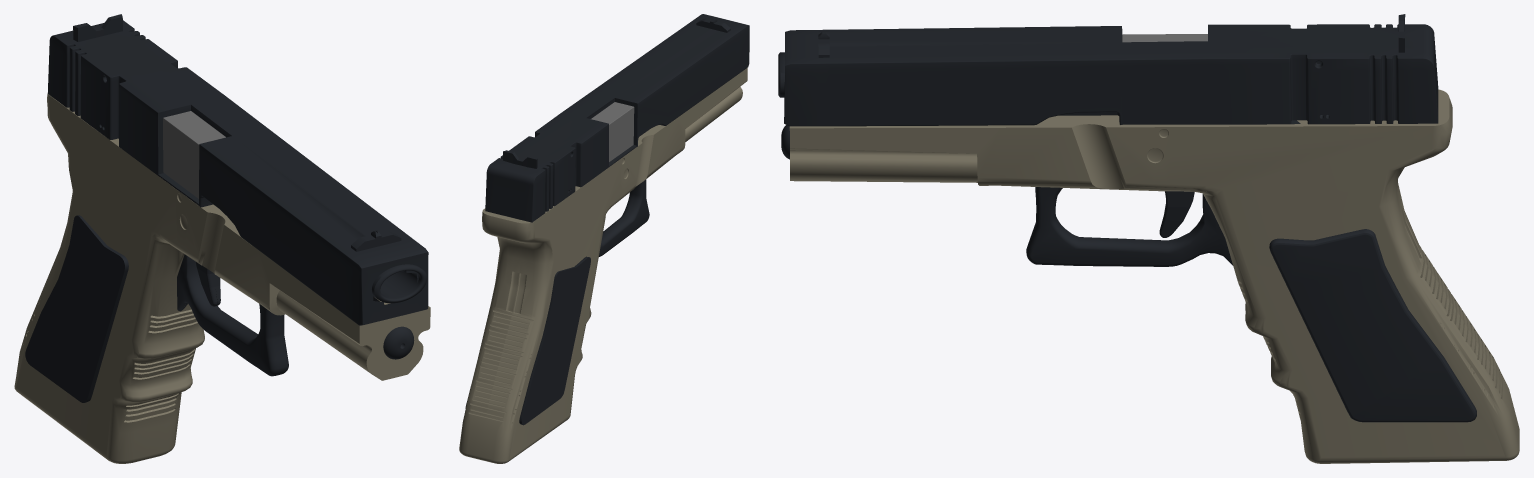
File: Glock18.fbx
The picture shows the model from 3 angles, left to right: view 1: azimuth 30°, elevation 25°; view 2: azimuth 150°, elevation 25°; view 3: azimuth 270°, elevation 25°; orthographic projection. The views are drawn at different scales.
Visible parts, largest first — view 1: MainBody, UpperBody, Grip, Trigger, BulletPosition.001, Cannon, FrontDetail, FingerTrigger; view 2: MainBody, UpperBody, Grip, Trigger, BulletPosition.001; view 3: MainBody, UpperBody, Grip, Trigger, FingerTrigger.
Part boxes in pixels (<box>): MainBody: <box>14,92,430,463</box>; UpperBody: <box>47,14,428,325</box>; Grip: <box>25,215,128,402</box>; Trigger: <box>177,254,288,376</box>; BulletPosition.001: <box>163,111,225,198</box>; Cannon: <box>372,264,427,303</box>; FrontDetail: <box>383,326,414,359</box>; FingerTrigger: <box>196,262,220,306</box>; MainBody: <box>459,68,747,463</box>; UpperBody: <box>485,14,749,222</box>; Grip: <box>465,256,590,425</box>; Trigger: <box>599,179,649,256</box>; BulletPosition.001: <box>591,102,634,161</box>; MainBody: <box>789,89,1519,463</box>; UpperBody: <box>784,14,1438,126</box>; Grip: <box>1269,229,1476,422</box>; Trigger: <box>1026,187,1232,266</box>; FingerTrigger: <box>1159,191,1194,237</box>.
Bounding box in the file's own units: 64.53 × 303 × 480.
